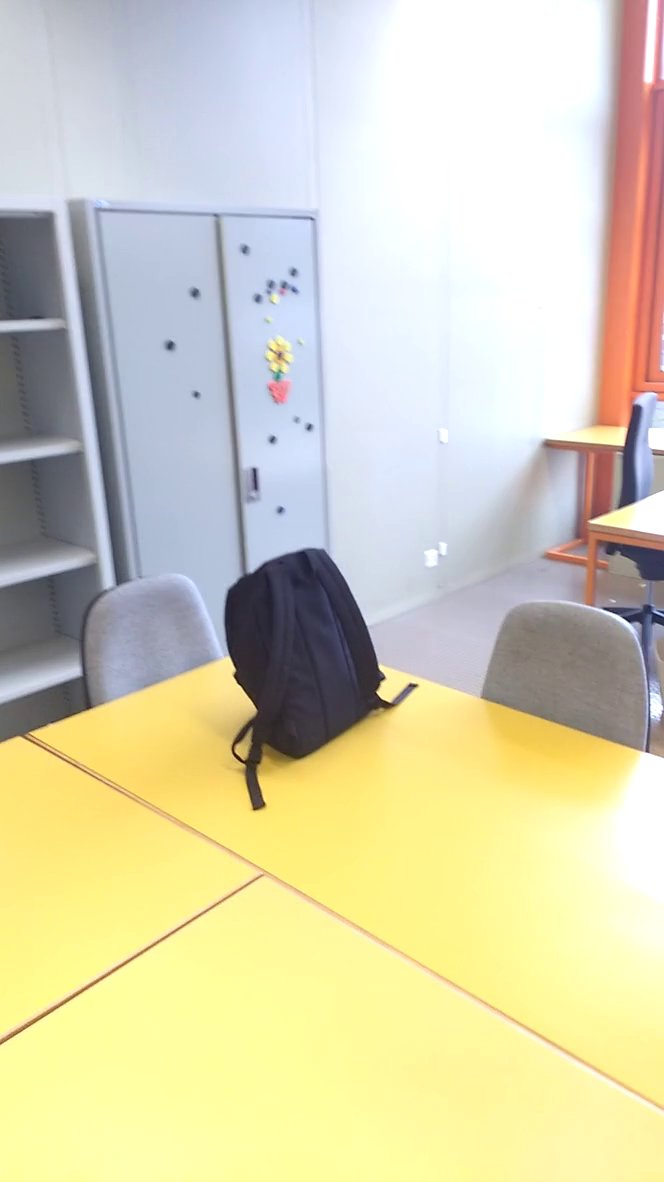bag: (221, 539, 427, 816)
chair: (471, 590, 664, 800), (60, 561, 232, 733), (596, 379, 664, 617)
